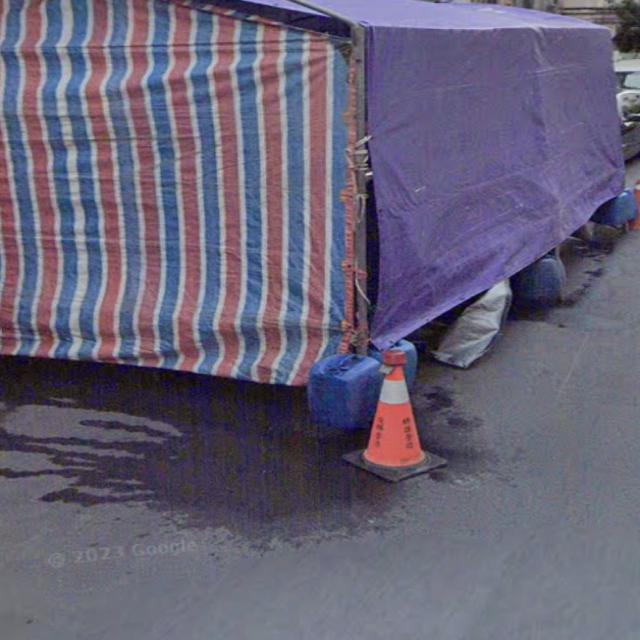cone: (345, 334, 451, 482)
